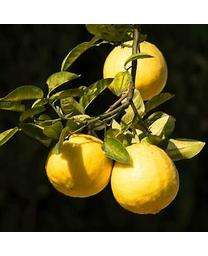lemon: (110, 143, 180, 215), (46, 133, 113, 198), (102, 39, 168, 99)
